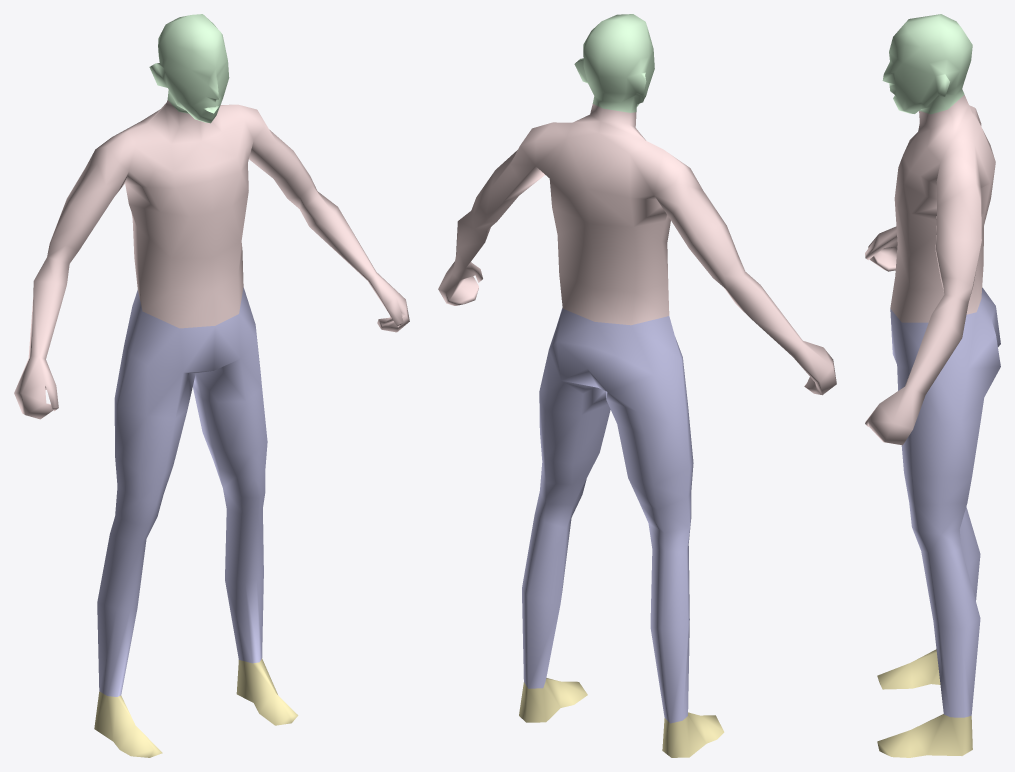
File: Male_MouthOpen.fbx
3 views of the same model, side by side, from view 1: azimuth 30°, elevation 25°; view 2: azimuth 150°, elevation 25°; view 3: azimuth 270°, elevation 25° (orthographic).
Parts seen in each view (by area): view 1: SK_Male_Mesh_MouthOpen; view 2: SK_Male_Mesh_MouthOpen; view 3: SK_Male_Mesh_MouthOpen.
Boxes of the visible parts, bbox=[...] form: SK_Male_Mesh_MouthOpen: bbox=[14, 14, 409, 757]; SK_Male_Mesh_MouthOpen: bbox=[438, 14, 836, 757]; SK_Male_Mesh_MouthOpen: bbox=[865, 14, 1000, 757].
Size of the model in its own units: 98.27 by 30.29 by 172.
